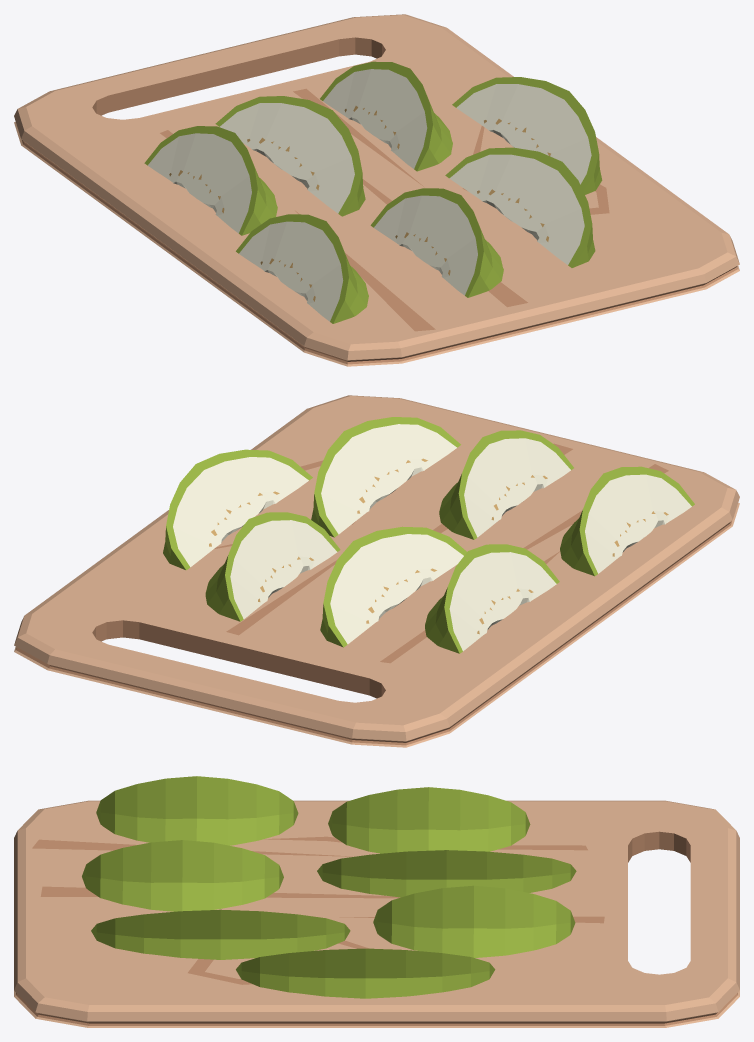
The model's file is Guava Ingre.glb.
3 renders of one model, top to bottom at view 1: azimuth 30°, elevation 25°; view 2: azimuth 150°, elevation 25°; view 3: azimuth 270°, elevation 25°, orthographic. The views are drawn at different scales.
Parts seen in each view (by area): view 1: Cube, Sphere.002; view 2: Cube, Sphere.002; view 3: Cube, Sphere.002.
Boxes of the visible parts, left/top/right/bottom form: Cube: left=14, top=14, right=739, bottom=366; Sphere.002: left=144, top=61, right=602, bottom=323; Cube: left=14, top=395, right=739, bottom=747; Sphere.002: left=163, top=417, right=694, bottom=653; Cube: left=14, top=800, right=739, bottom=1027; Sphere.002: left=82, top=776, right=576, bottom=998.
Size of the model in its own units: 0.6274 by 0.103 by 0.8985.
